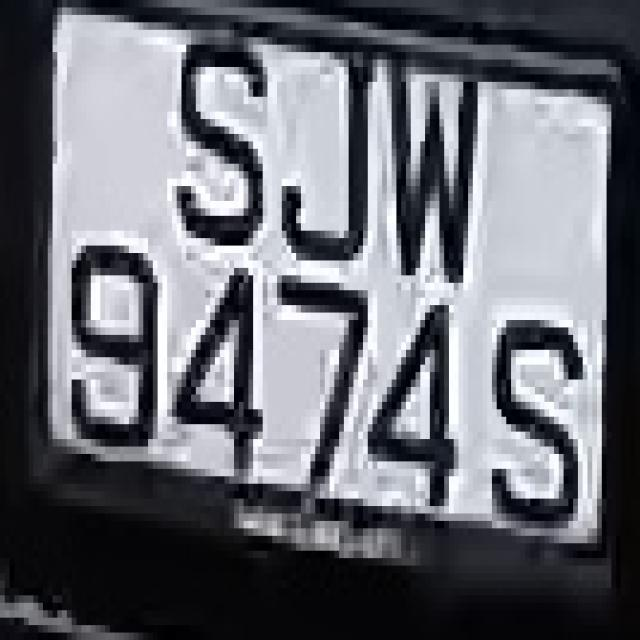4: (158, 231, 282, 491), (368, 261, 478, 528)
6: (253, 238, 373, 514)
9: (53, 224, 167, 476)
J: (268, 15, 382, 268)
S: (482, 283, 597, 543), (162, 30, 277, 253)
W: (377, 30, 487, 275)
